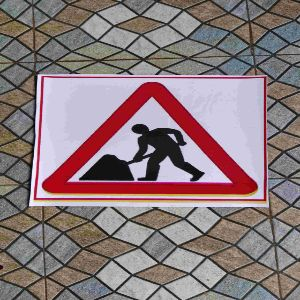men at work: (32, 75, 267, 201)
